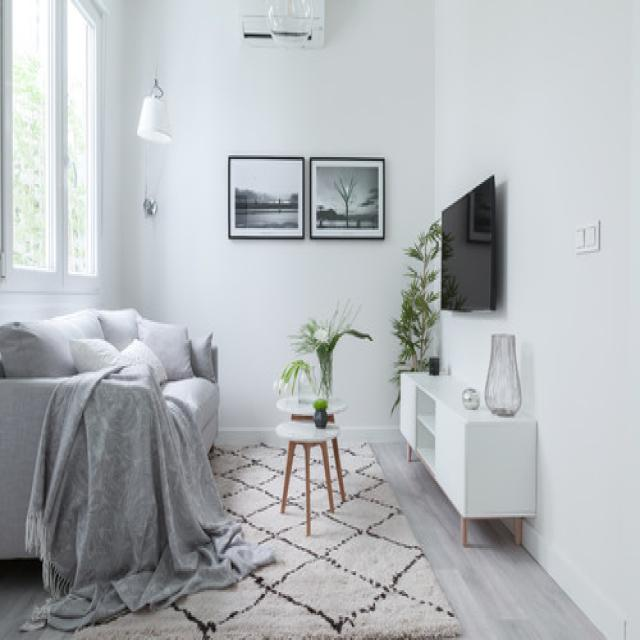white desk: (272, 393, 356, 531)
white shelf: (391, 355, 550, 567)
white sofa: (0, 273, 218, 567)
